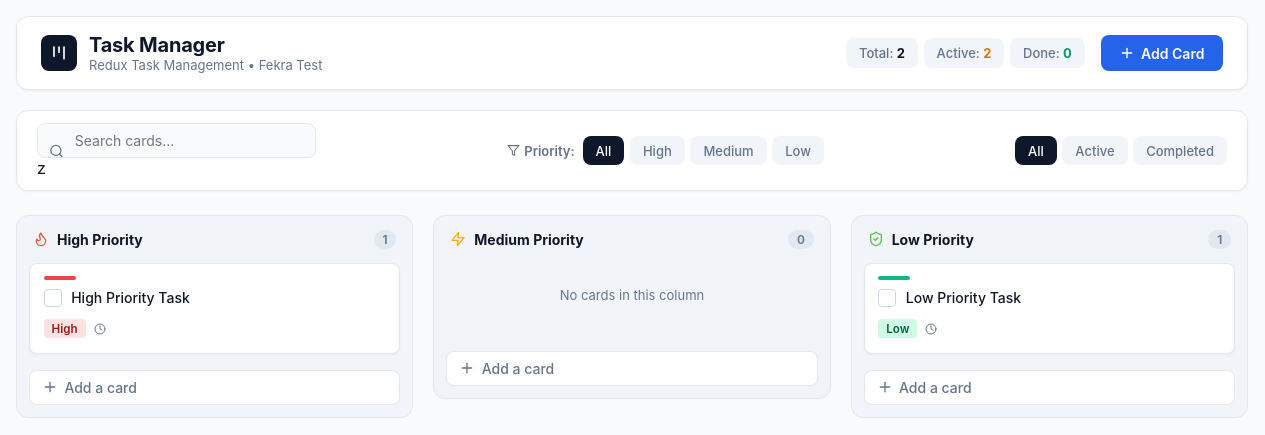
Test: React Task Manager UI Component Integration Tests › filters tasks when Priority filter pills are clicked
Expected: the text "High Priority Task" is shown, [71,288,190,308]
Expected: the text "Low Priority Task" is shown, [906,288,1021,308]
# Click High Priority filter pill
Click the button "High".
click(657, 150)  # box [630,136,685,165]
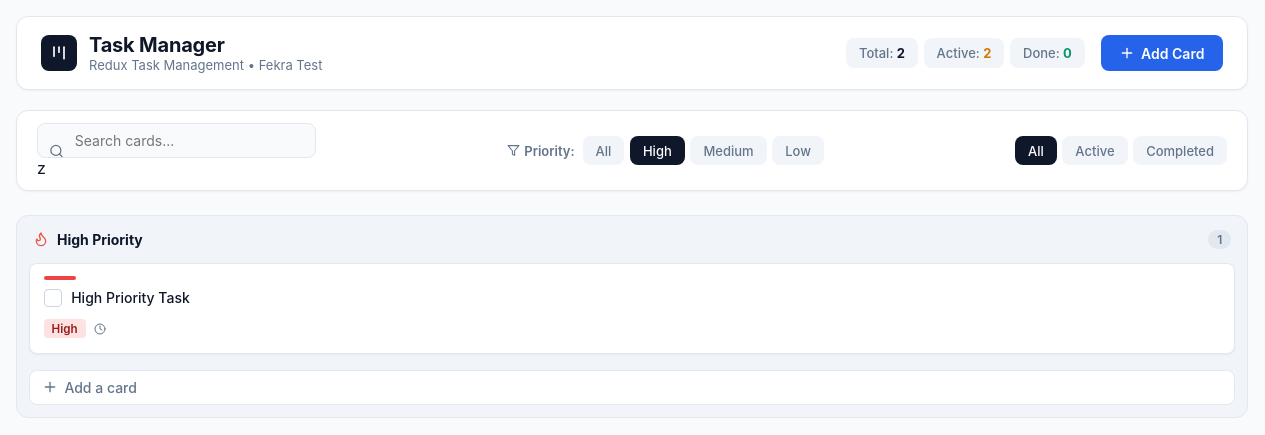
Expected: the text "High Priority Task" is shown, [71,288,190,308]
Result: the text "Low Priority Task" is gone
